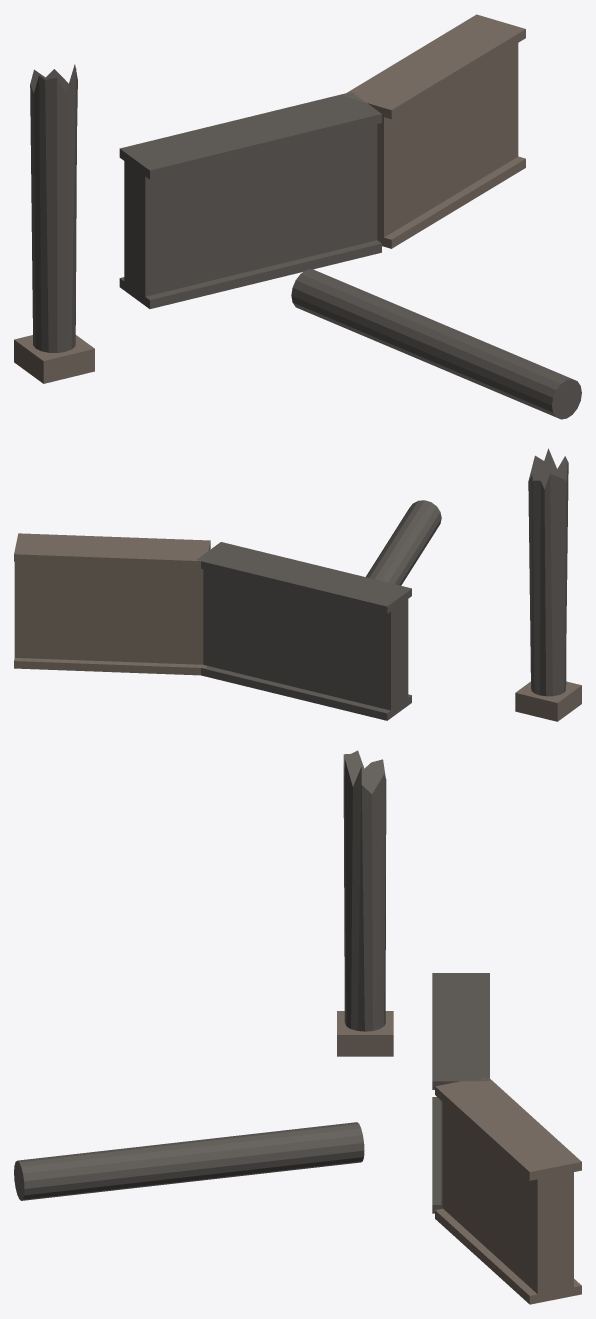
Rendered from sy36-ruin-fragment.glb.
3 views of the same model, one above another, from view 1: azimuth 30°, elevation 25°; view 2: azimuth 150°, elevation 25°; view 3: azimuth 270°, elevation 25° (orthographic). The views are drawn at different scales.
Visible parts, largest first — view 1: FallenGirder1Web, FallenGirder2Web, FallenColumn, ColumnStub, FallenGirder1FlangeTop, FallenGirder2FlangeTop, FallenGirder1FlangeBot, StubCollar, FallenGirder2FlangeBot; view 2: FallenGirder1Web, FallenGirder2Web, ColumnStub, FallenGirder1FlangeTop, FallenGirder2FlangeTop, FallenColumn, FallenGirder1FlangeBot, FallenGirder2FlangeBot, StubCollar; view 3: FallenGirder2Web, FallenColumn, ColumnStub, FallenGirder1FlangeTop, FallenGirder2FlangeTop, FallenGirder2FlangeBot, StubCollar, FallenGirder1FlangeBot, FallenGirder1Web.
Part boxes in pixels (left/top/right/bottom): FallenGirder1Web: left=124, top=96, right=377, bottom=305; FallenGirder2Web: left=357, top=17, right=518, bottom=246; FallenColumn: left=291, top=269, right=581, bottom=419; ColumnStub: left=30, top=64, right=77, bottom=352; FallenGirder1FlangeTop: left=119, top=92, right=381, bottom=179; FallenGirder2FlangeTop: left=343, top=14, right=525, bottom=119; FallenGirder1FlangeBot: left=119, top=240, right=381, bottom=308; StubCollar: left=14, top=335, right=94, bottom=383; FallenGirder2FlangeBot: left=378, top=156, right=525, bottom=248; FallenGirder1Web: left=203, top=554, right=408, bottom=714; FallenGirder2Web: left=14, top=536, right=209, bottom=664; ColumnStub: left=528, top=448, right=568, bottom=696; FallenGirder1FlangeTop: left=196, top=542, right=411, bottom=613; FallenGirder2FlangeTop: left=14, top=533, right=210, bottom=568; FallenColumn: left=366, top=500, right=441, bottom=585; FallenGirder1FlangeBot: left=197, top=666, right=411, bottom=720; FallenGirder2FlangeBot: left=14, top=658, right=206, bottom=675; StubCollar: left=515, top=681, right=581, bottom=721; FallenGirder2Web: left=443, top=1081, right=573, bottom=1302; FallenColumn: left=14, top=1122, right=364, bottom=1200; ColumnStub: left=343, top=750, right=386, bottom=1031; FallenGirder1FlangeTop: left=432, top=973, right=489, bottom=1089; FallenGirder2FlangeTop: left=435, top=1077, right=581, bottom=1180; FallenGirder2FlangeBot: left=435, top=1208, right=581, bottom=1304; StubCollar: left=337, top=1011, right=393, bottom=1056; FallenGirder1FlangeBot: left=432, top=1097, right=441, bottom=1213; FallenGirder1Web: left=441, top=1049, right=481, bottom=1208.
Bounding box in the file's own units: 4.02 × 2.01 × 3.55.
